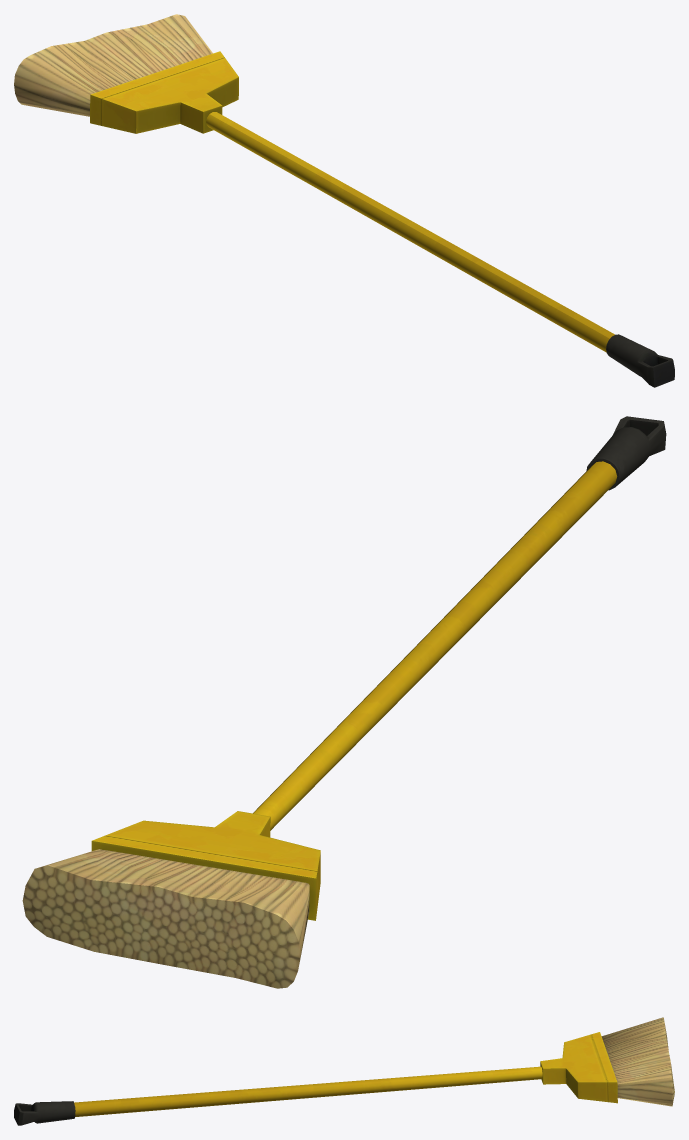
3 views of the same model, one above another, from view 1: azimuth 30°, elevation 25°; view 2: azimuth 150°, elevation 25°; view 3: azimuth 270°, elevation 25° (orthographic). The views are drawn at different scales.
Visible parts, largest first — view 1: SM_Broom_CleaningSupplies_0; view 2: SM_Broom_CleaningSupplies_0; view 3: SM_Broom_CleaningSupplies_0.
Boxes of the visible parts, left/top/right/bottom form: SM_Broom_CleaningSupplies_0: left=14, top=14, right=674, bottom=387; SM_Broom_CleaningSupplies_0: left=22, top=416, right=666, bottom=988; SM_Broom_CleaningSupplies_0: left=14, top=1017, right=674, bottom=1125.
Bounding box in the file's own units: 3496 × 848 × 12437.
